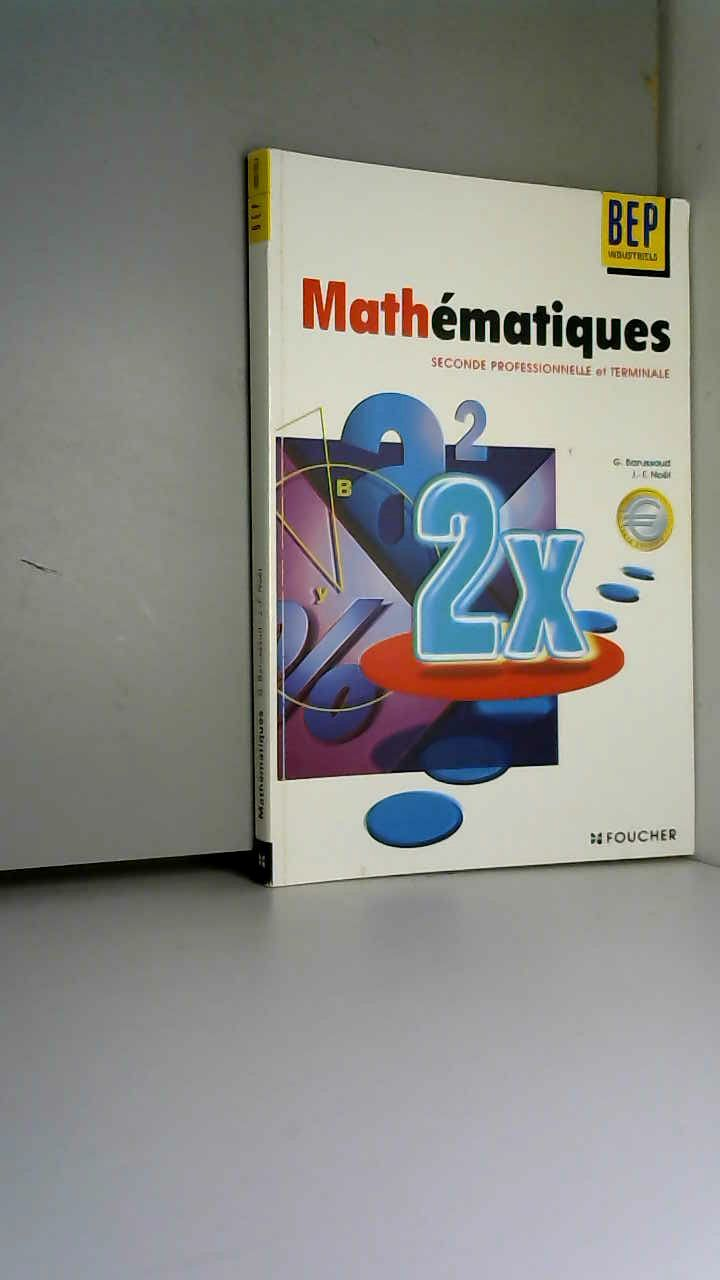book: (210, 120, 716, 910)
